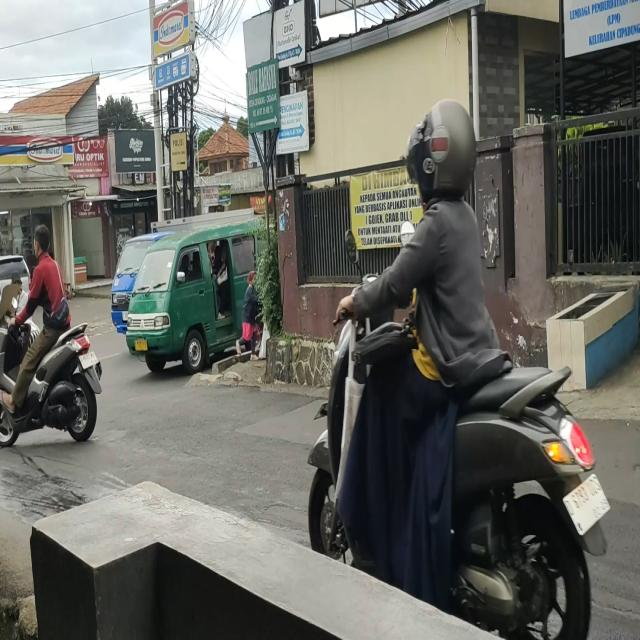helmet: (414, 103, 475, 194)
no-helmet: (32, 225, 51, 263)
